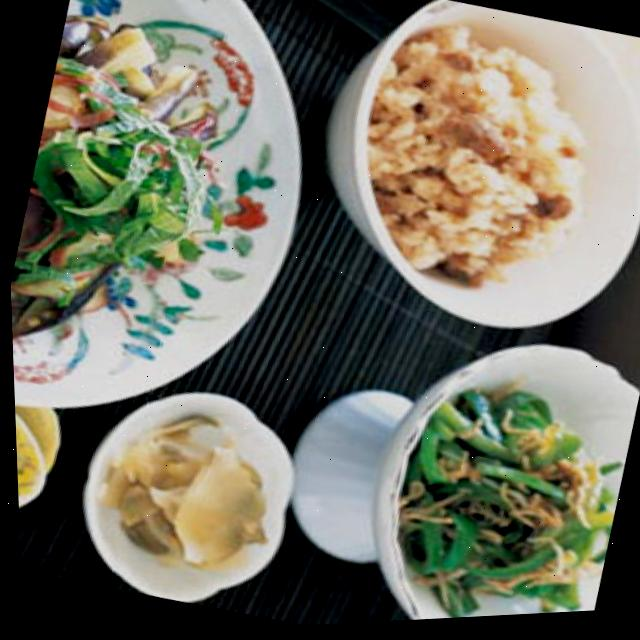米饭主食: (338, 16, 629, 314)
